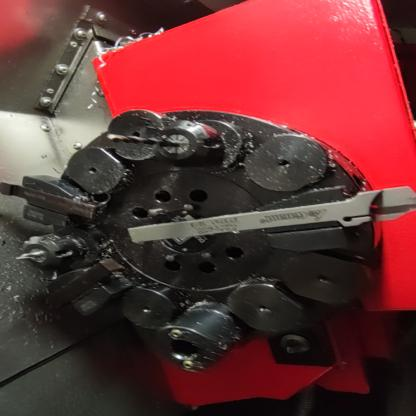bit: (120, 179, 416, 257), (36, 254, 149, 320), (0, 171, 116, 232)
